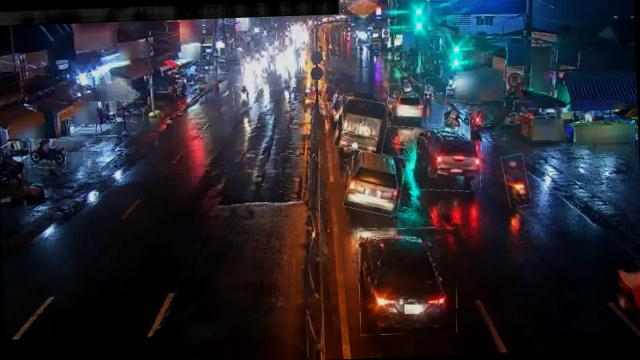Bike: (502, 154, 530, 207), (28, 138, 66, 168), (441, 99, 465, 136), (115, 100, 144, 122), (469, 103, 483, 144), (233, 82, 253, 110), (399, 75, 414, 95), (424, 78, 434, 102)
Car: (357, 226, 458, 336), (412, 123, 484, 192), (344, 148, 406, 216), (388, 84, 430, 128)
Truck: (334, 97, 390, 154)
